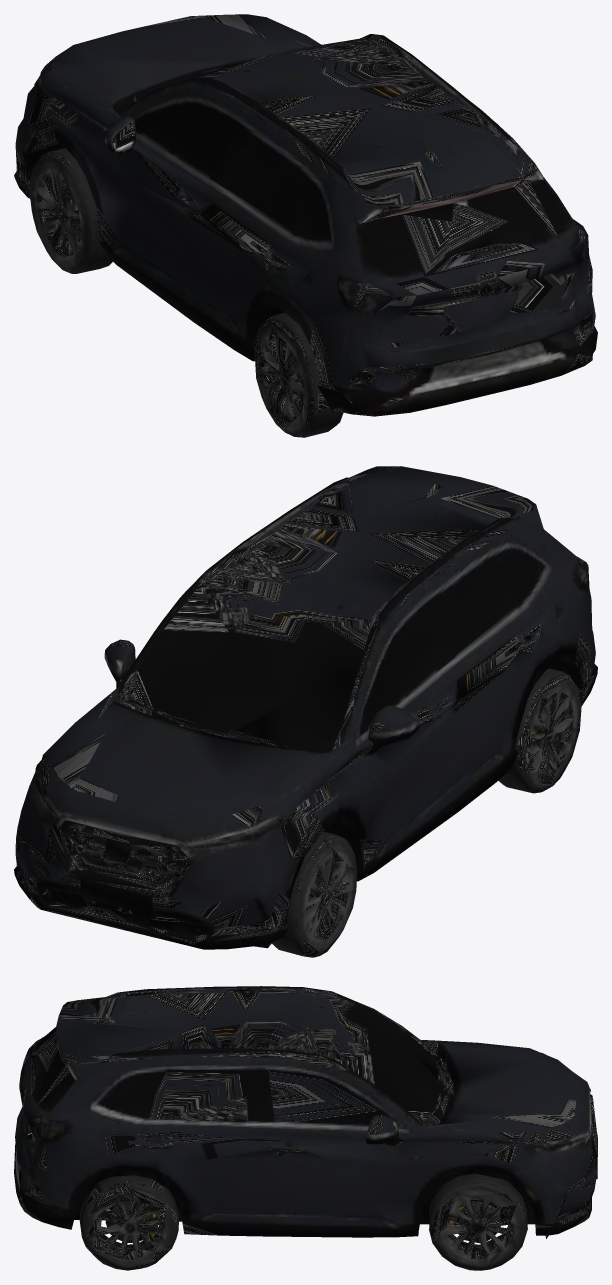
The model's file is suv.glb.
The picture shows the model from 3 angles, top to bottom: view 1: azimuth 30°, elevation 25°; view 2: azimuth 150°, elevation 25°; view 3: azimuth 270°, elevation 25°; orthographic projection. The views are drawn at different scales.
Parts seen in each view (by area): view 1: corpo; view 2: corpo; view 3: corpo.
Part boxes in pixels (left/top/right/bottom): corpo: left=14, top=14, right=597, bottom=437; corpo: left=14, top=466, right=597, bottom=957; corpo: left=14, top=986, right=597, bottom=1270.
Bounding box in the file's own units: 2.24 × 1.81 × 4.7.
Materials: 1 (1 with a texture image).
